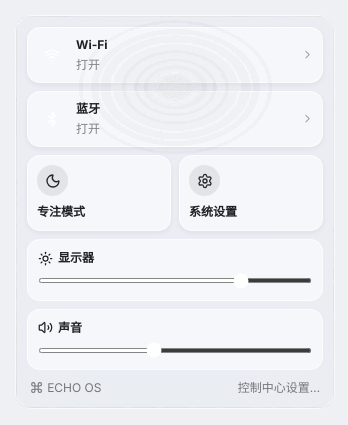
Test: Echo desktop shell › toggles Wi-Fi in Control Center
This screenshot has width=348, height=425.
Click the button "Wi-Fi 打开". click: (92, 44)
box: [27,27,323,83]
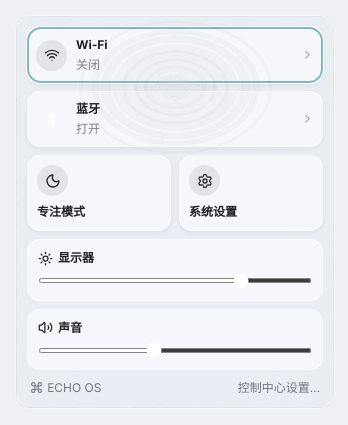
Now the button "Wi-Fi 关闭" is shown, box [27,27,323,83]
